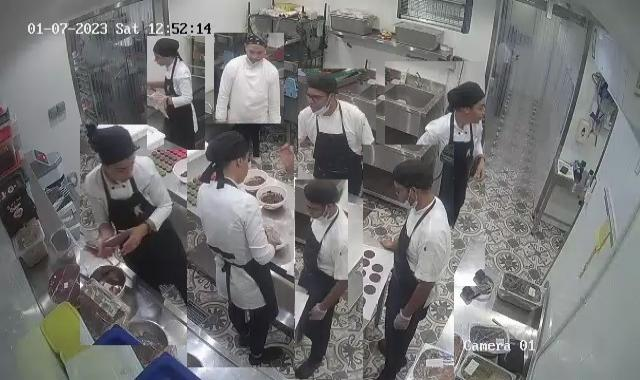no_hairnet: (96, 120, 137, 178), (202, 132, 254, 170), (392, 159, 434, 205), (451, 80, 486, 123), (303, 184, 339, 220), (305, 72, 338, 107), (243, 28, 270, 59), (154, 36, 177, 67)
